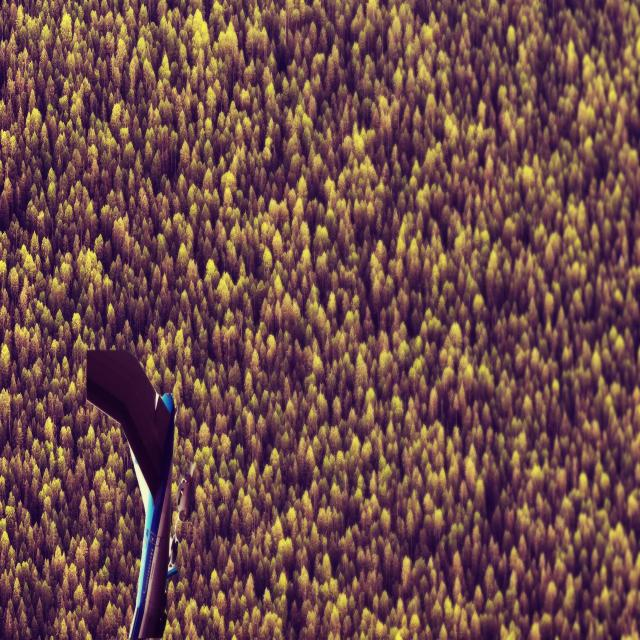airplane: (85, 347, 195, 638)
